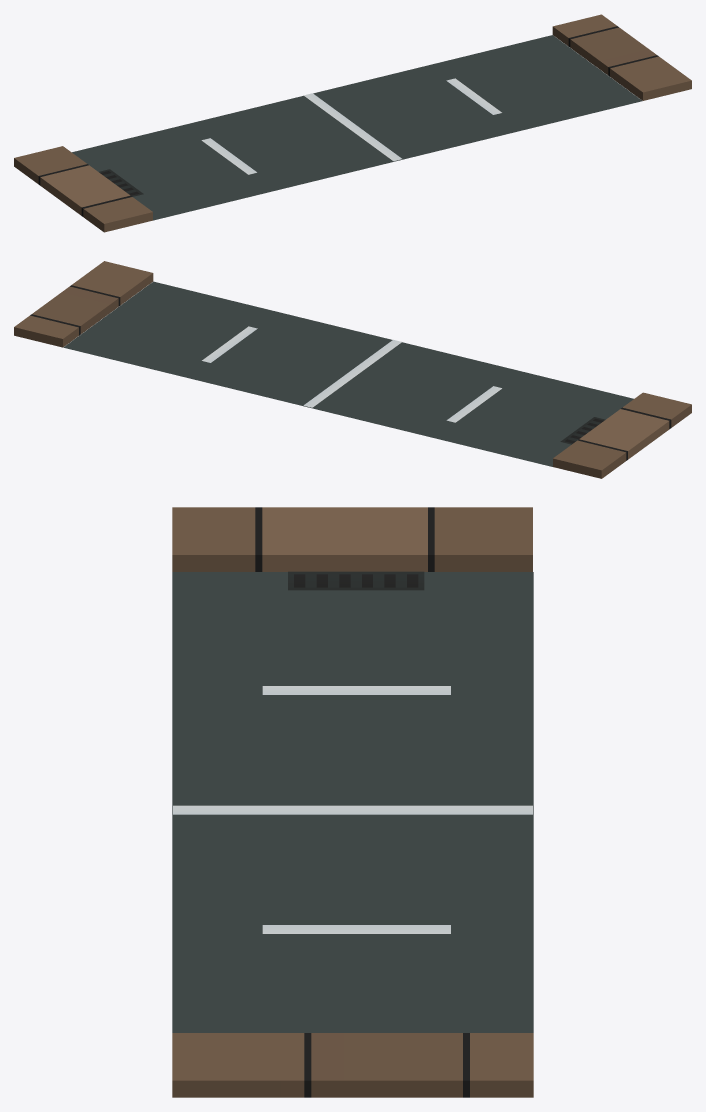
The model's file is Road_1_206.fbx.
3 renders of one model, top to bottom at view 1: azimuth 30°, elevation 25°; view 2: azimuth 150°, elevation 25°; view 3: azimuth 270°, elevation 25°, orthographic. The views are drawn at different scales.
Parts seen in each view (by area): view 1: Road_1_206; view 2: Road_1_206; view 3: Road_1_206.
Boxes of the visible parts, x1,y1,x2,y2 form: Road_1_206: (14, 14, 691, 232); Road_1_206: (14, 261, 691, 478); Road_1_206: (172, 507, 533, 1097).
Size of the model in its own units: 2161 by 30 by 575.
